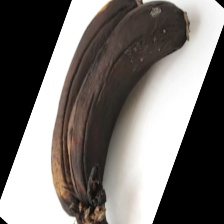banana: (8, 9, 190, 188)
